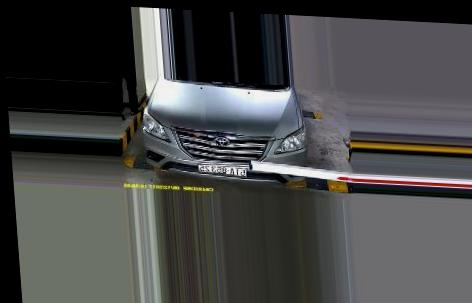License_Plate: (195, 160, 249, 180)
